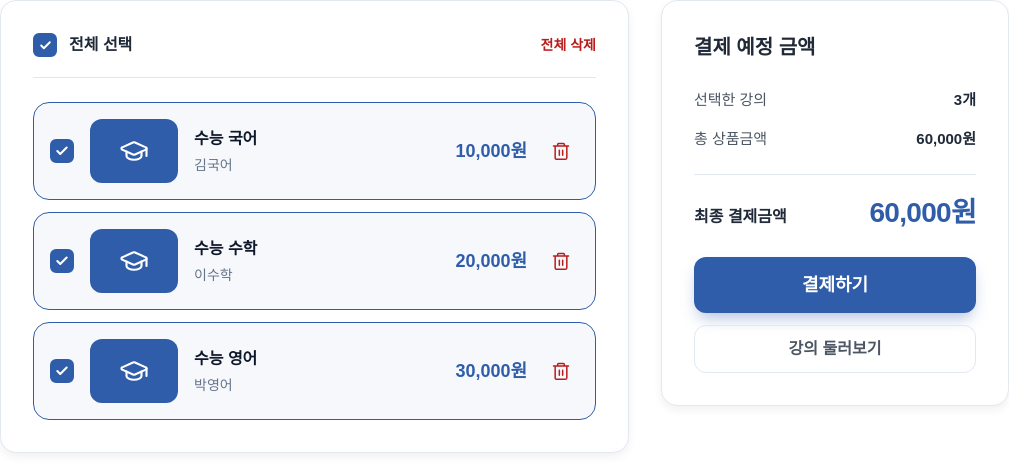
Scenario: CartClient — 장바구니 통합 › 선택 토글 → 합계 갱신 › 한 항목을 해제하면 선택 개수·합계가 줄어든다
Step 1. Click the button with aria-label "수능 국어 선택" → (134, 151), box [50,119,527,183]
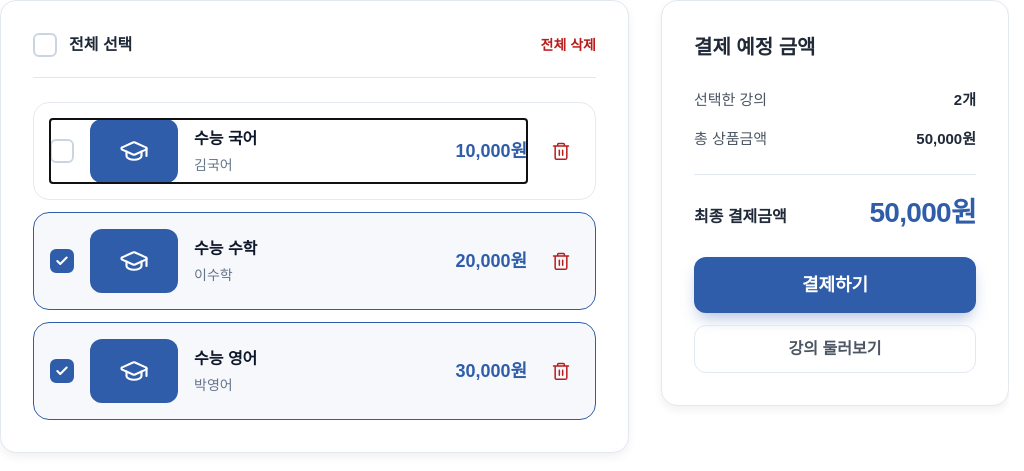
Check: the text "50,000원" is shown 2 times, box [916,128,976,150]; [870,199,976,227]
Check: the text "2개" is shown, box [954,89,976,112]
